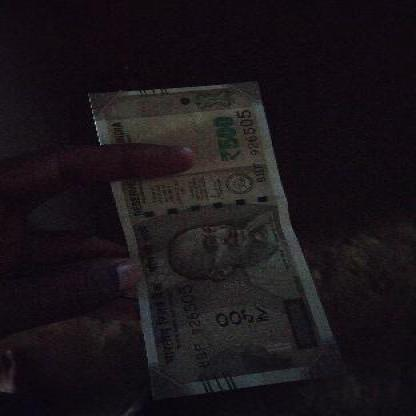New500Front: (88, 84, 332, 386)
